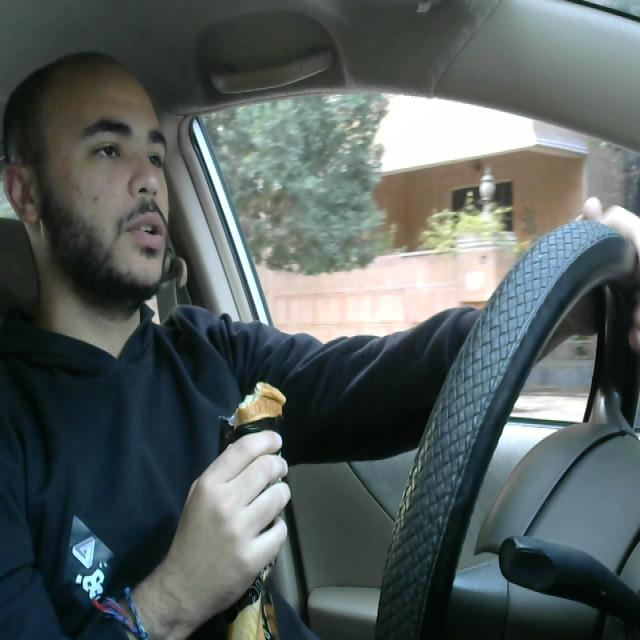eating: (210, 369, 290, 640)
